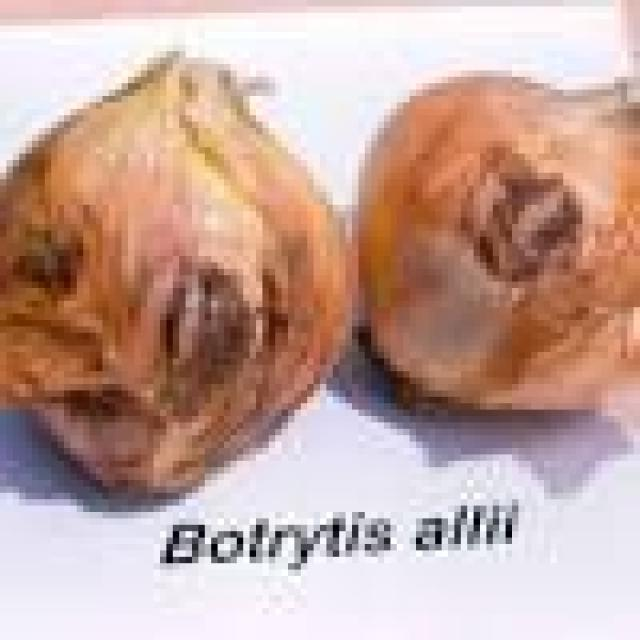Onion: (0, 45, 352, 512), (358, 51, 640, 442)
